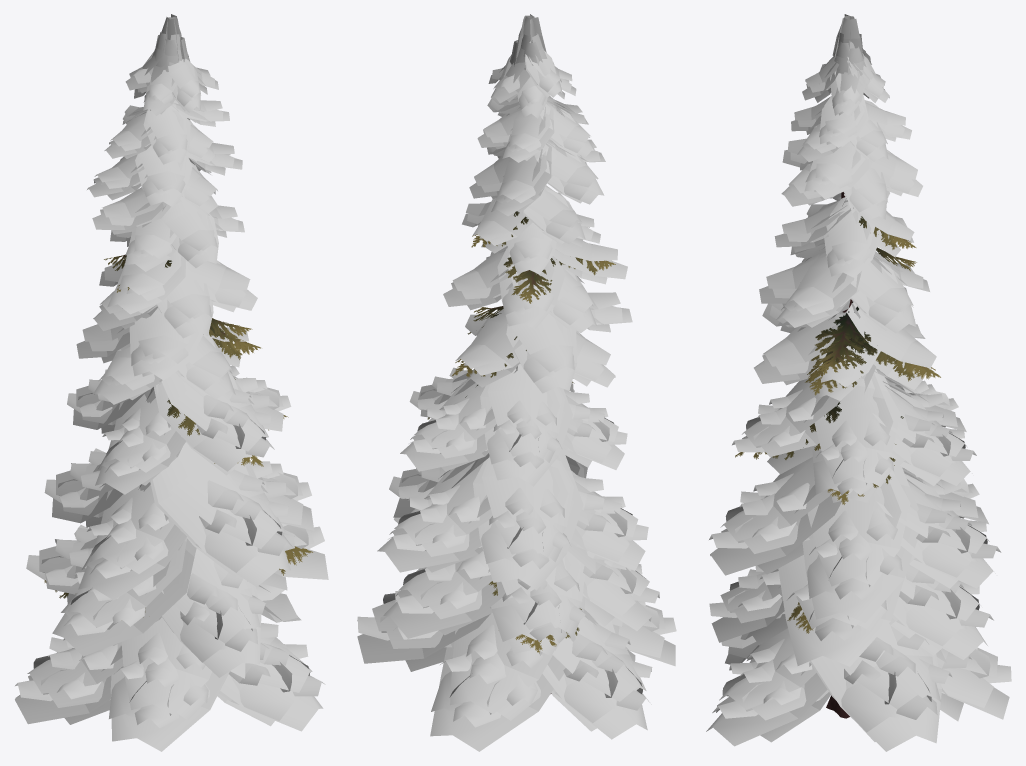
File: Fir_XL_Normal.fbx
3 renders of one model, left to right at view 1: azimuth 30°, elevation 25°; view 2: azimuth 150°, elevation 25°; view 3: azimuth 270°, elevation 25°, orthographic. The views are drawn at different scales.
Visible parts, largest first — view 1: polySurface2244; view 2: polySurface2244; view 3: polySurface2244.
Boxes of the visible parts, box(x1,y1,x2,y2) form: polySurface2244: box(15, 14, 328, 751); polySurface2244: box(357, 14, 676, 751); polySurface2244: box(706, 14, 1011, 751).
Bounding box in the file's own units: 611 × 1407 × 559.
